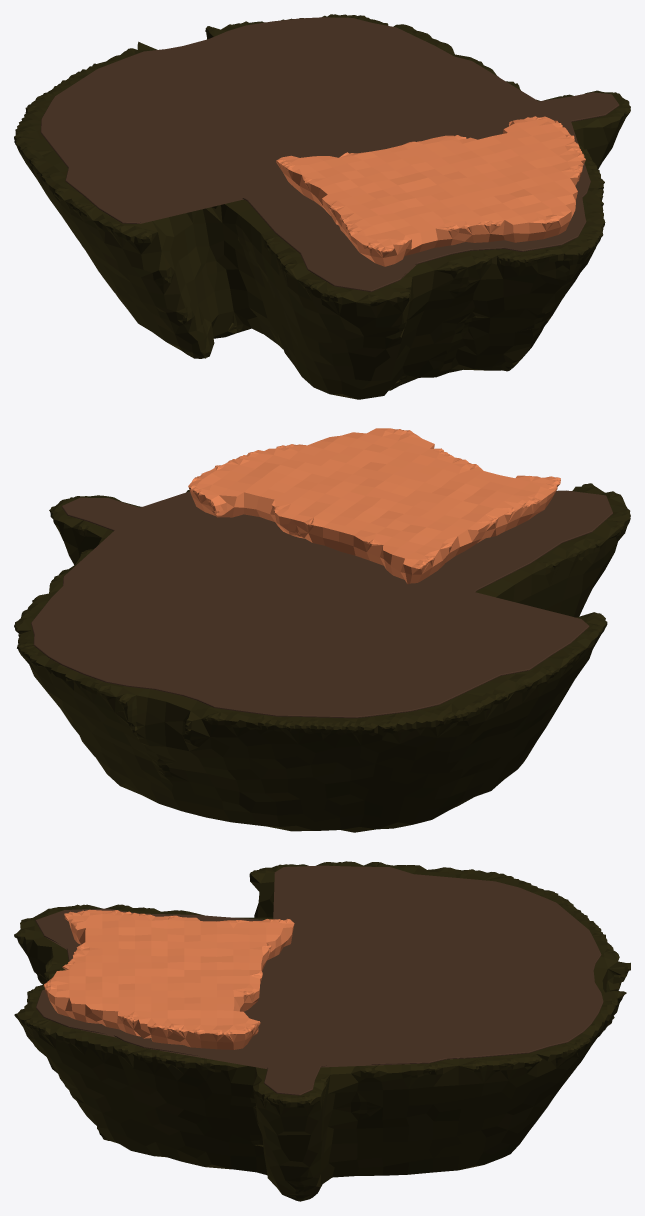
Rendered from BP_terrains.fbx.
3 renders of one model, top to bottom at view 1: azimuth 30°, elevation 25°; view 2: azimuth 150°, elevation 25°; view 3: azimuth 270°, elevation 25°, orthographic. The views are drawn at different scales.
Parts seen in each view (by area): view 1: Cube.001, Cube, Cube.002; view 2: Cube.001, Cube, Cube.002; view 3: Cube.001, Cube, Cube.002.
Boxes of the visible parts, x1,y1,x2,y2 form: Cube.001: [40, 17, 619, 291]; Cube: [14, 14, 630, 399]; Cube.002: [276, 116, 585, 266]; Cube.001: [31, 490, 612, 718]; Cube: [14, 483, 630, 832]; Cube.002: [188, 428, 560, 584]; Cube.001: [35, 865, 603, 1095]; Cube: [14, 861, 630, 1201]; Cube.002: [43, 909, 294, 1049].
Size of the model in its own units: 11077 by 3521 by 12039.
